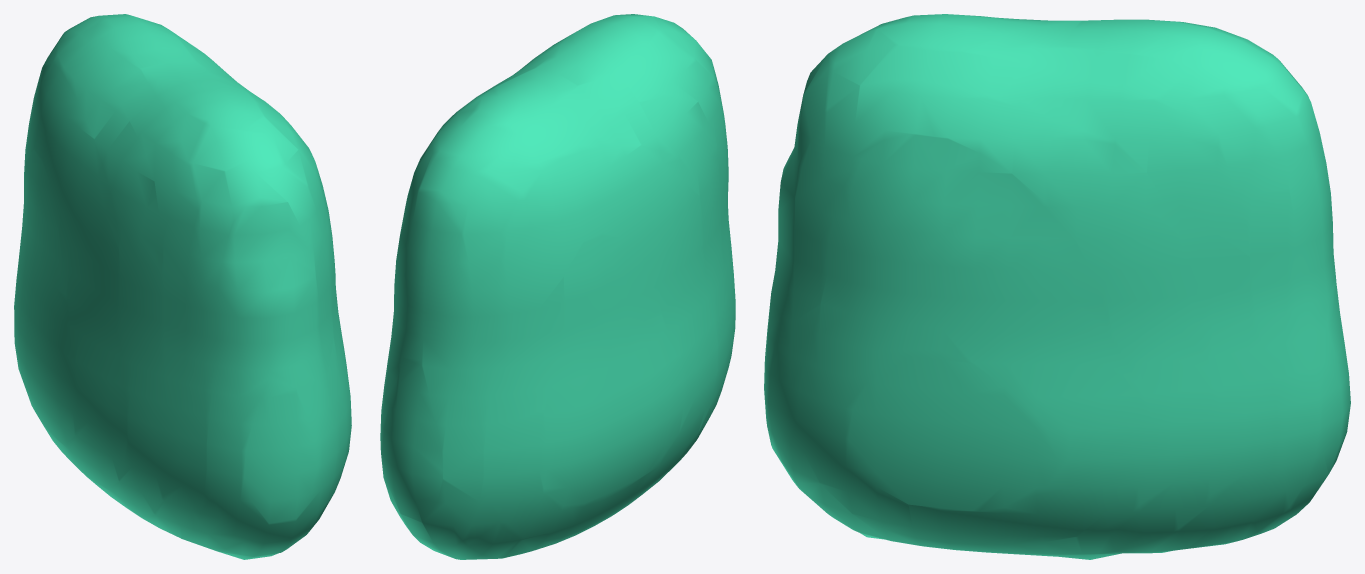
The picture shows the model from 3 angles, left to right: view 1: azimuth 30°, elevation 25°; view 2: azimuth 150°, elevation 25°; view 3: azimuth 270°, elevation 25°; orthographic projection. The views are drawn at different scales.
Parts seen in each view (by area): view 1: Liquid_Domain; view 2: Liquid_Domain; view 3: Liquid_Domain.
Part boxes in pixels (x1,y1,x2,y2): Liquid_Domain: [14, 14, 351, 559]; Liquid_Domain: [380, 14, 735, 559]; Liquid_Domain: [764, 14, 1350, 559].
Size of the model in its own units: 1.31 by 2.38 by 2.48.
